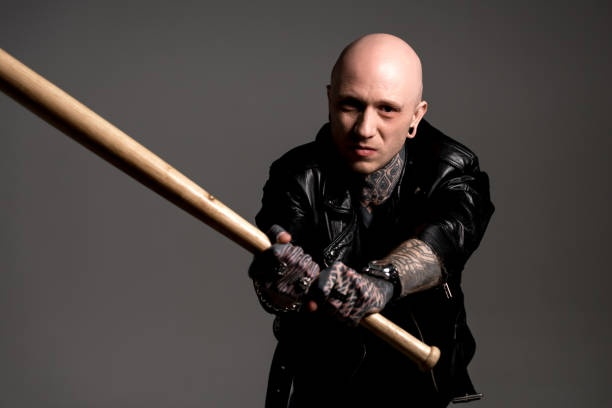bita: (1, 36, 442, 365)
